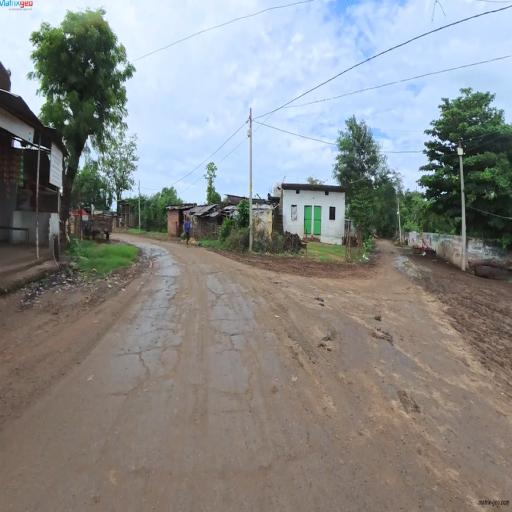longitudinal_crack: (110, 261, 278, 486)
